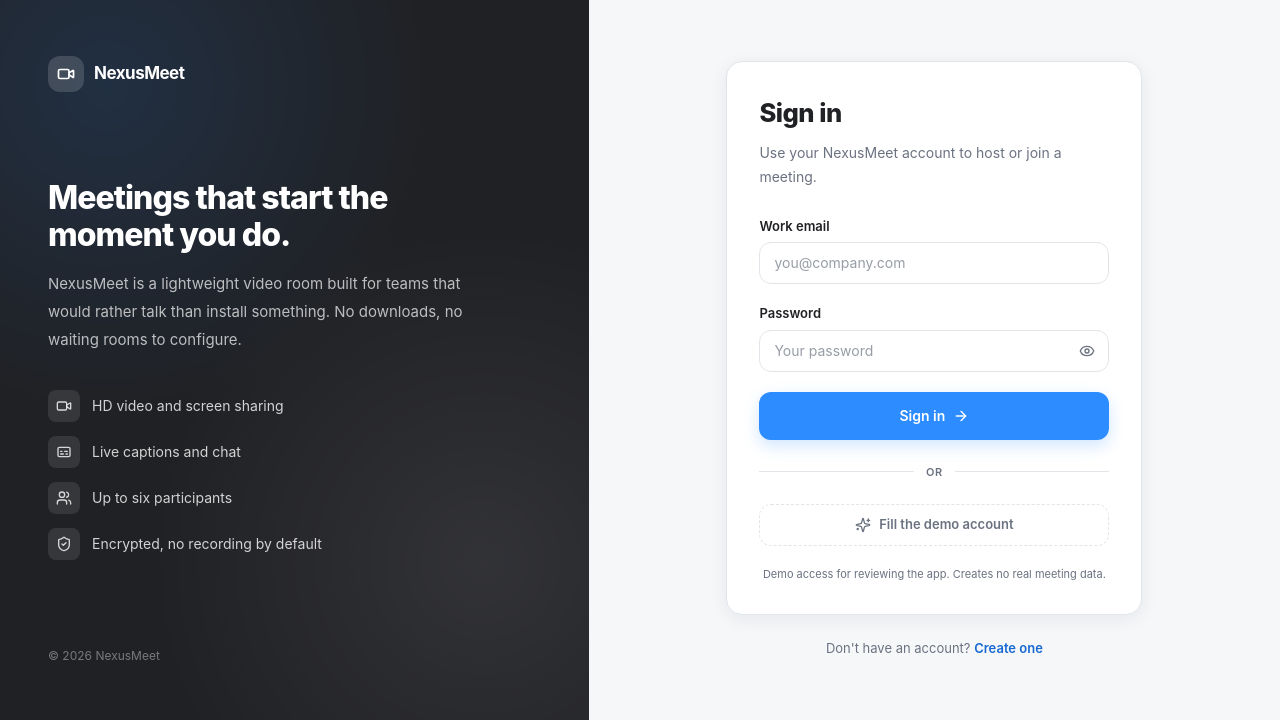
Test case: SignInForm › keeps the user on the page and explains a rejected sign in
In the field labelled "Work email": (934, 263) [759,242,1109,284], type "demo@nexusmeet.app"
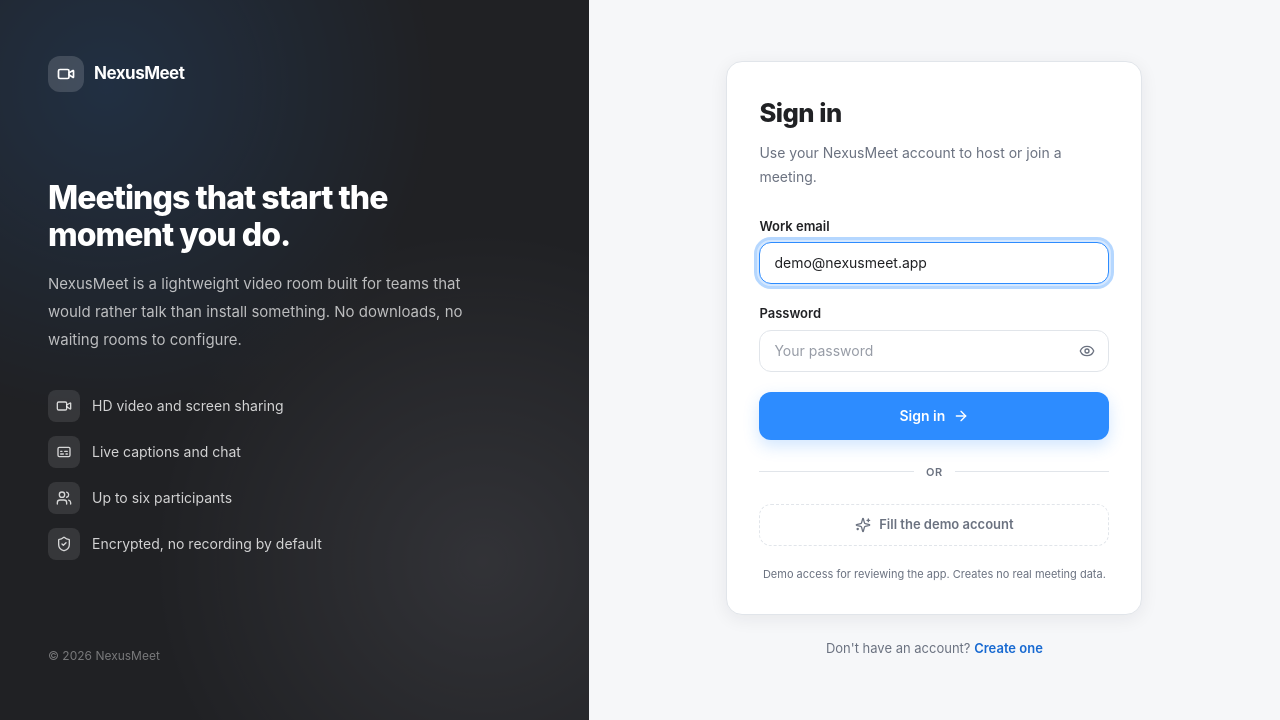
In the password field labelled "Password": (934, 351) [759,330,1109,372], type "wrong-password"
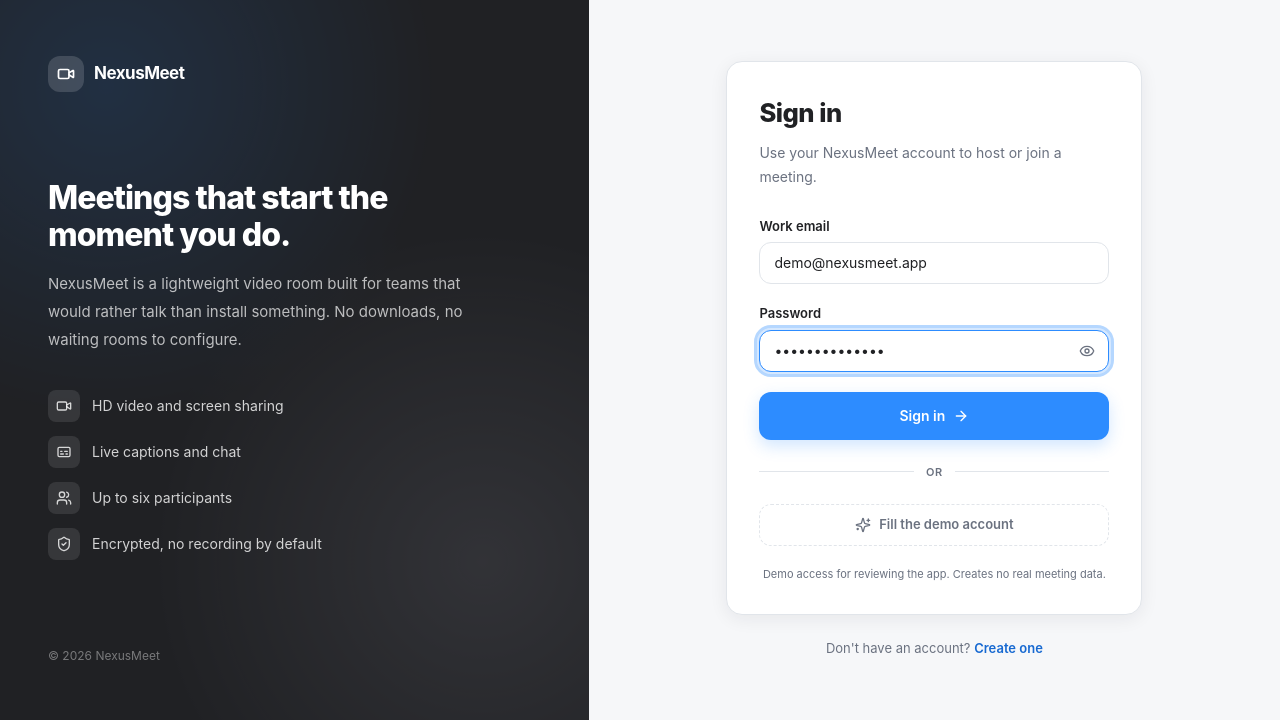
Click the button "Sign in": (934, 416) [759,392,1109,440]
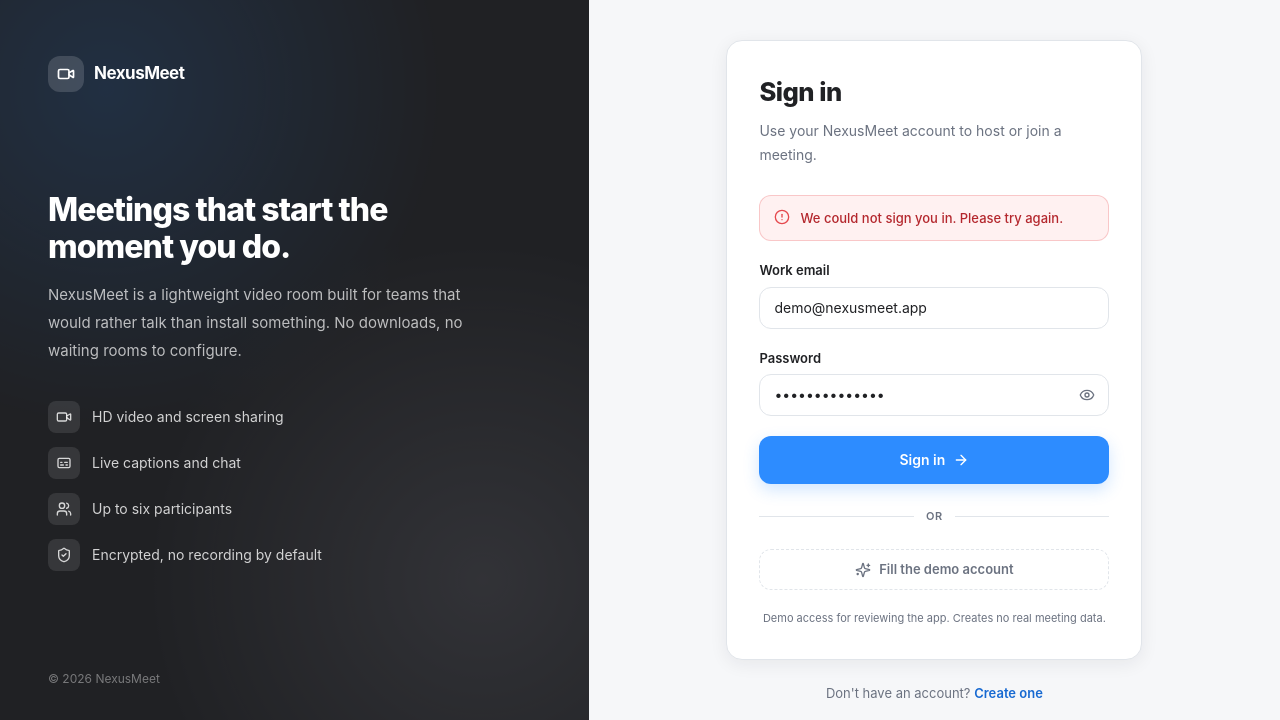
Now the message reads "We could not sign you in. Please try again.", box [800,210,1063,226]
